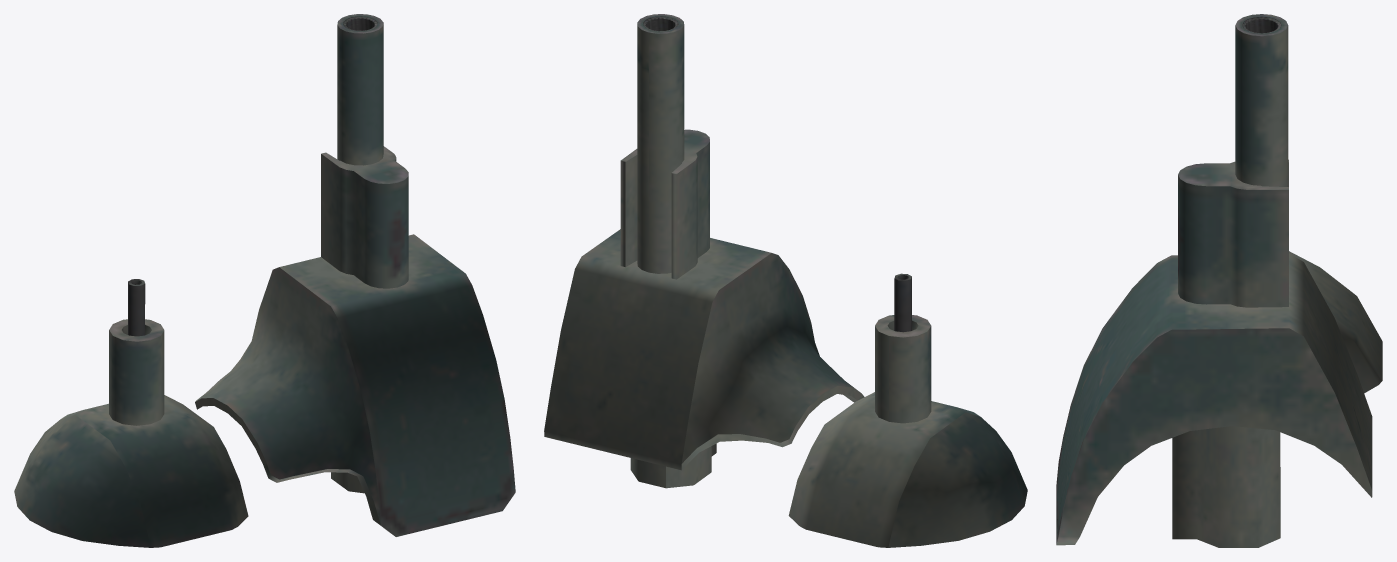
File: Gun_07.glb
3 renders of one model, left to right at view 1: azimuth 30°, elevation 25°; view 2: azimuth 150°, elevation 25°; view 3: azimuth 270°, elevation 25°, orthographic. The views are drawn at different scales.
Visible parts, largest first — view 1: set_0_group_0; view 2: set_0_group_0; view 3: set_0_group_0.
Boxes of the visible parts, <box> form: set_0_group_0: <box>14,14,515,547</box>; set_0_group_0: <box>544,14,1027,547</box>; set_0_group_0: <box>1056,14,1382,547</box>.
Bounding box in the file's own units: 0.735 × 0.7776 × 0.4546.
1 material, 1 textured.
